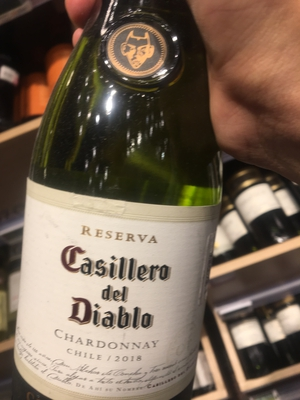casillero del diablo chardonnay: (10, 34, 234, 400)
